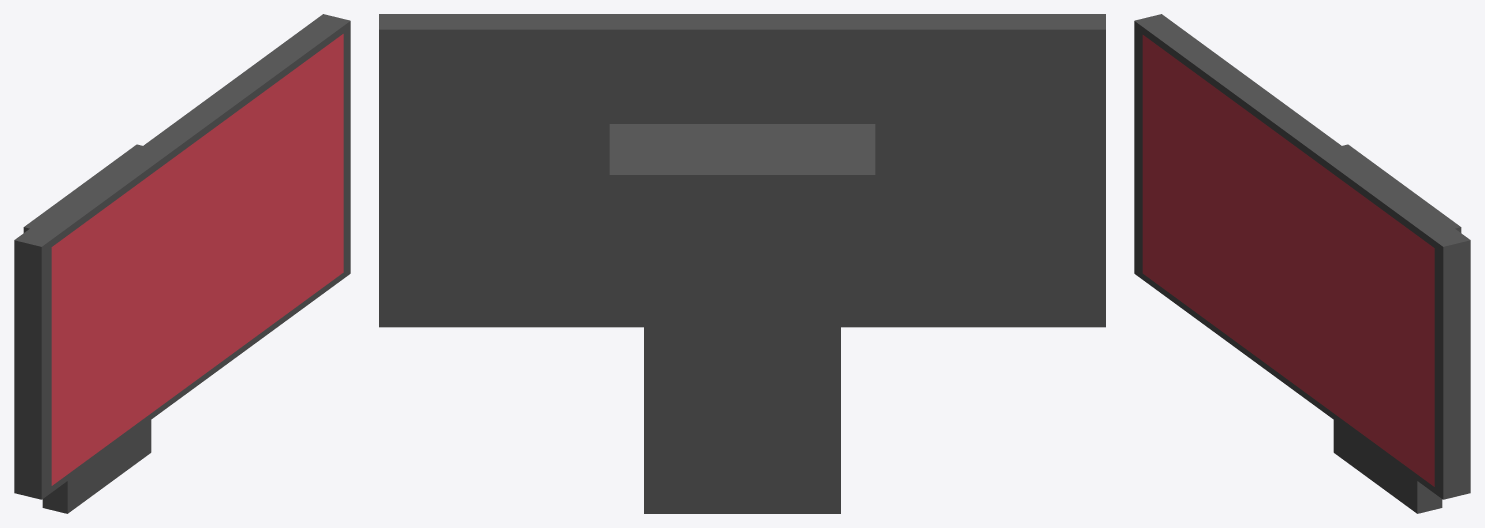
File: Monitor.fbx
The picture shows the model from 3 angles, left to right: view 1: azimuth 30°, elevation 25°; view 2: azimuth 150°, elevation 25°; view 3: azimuth 270°, elevation 25°; orthographic projection. The views are drawn at different scales.
Parts seen in each view (by area): view 1: Cube.011; view 2: Cube.011; view 3: Cube.011.
Part boxes in pixels (left/top/right/bottom): Cube.011: left=14, top=14, right=350, bottom=513; Cube.011: left=379, top=14, right=1105, bottom=513; Cube.011: left=1134, top=14, right=1470, bottom=513.
Size of the model in its own units: 178 by 132 by 109.
